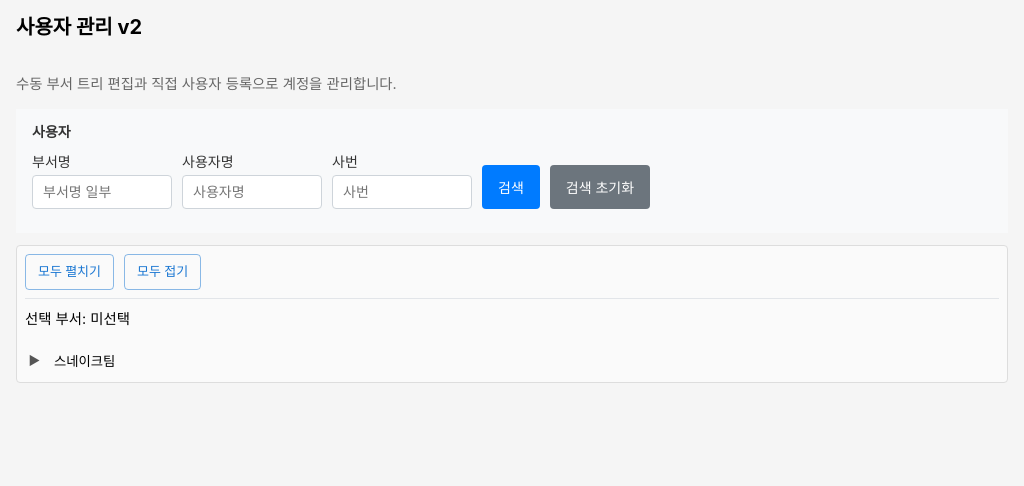
UserManagement › 사용자 ID column › falls back to employee_number (snake_case) when employeeNumber absent
Expected: the button "스네이크팀" is shown, top-left (47, 348), bottom-right (122, 374)
What coordinates should you click on to do the following:
click the button named "펼치기"
I would click on:
 (34, 361)
Its box is top-left (25, 351), bottom-right (43, 371).
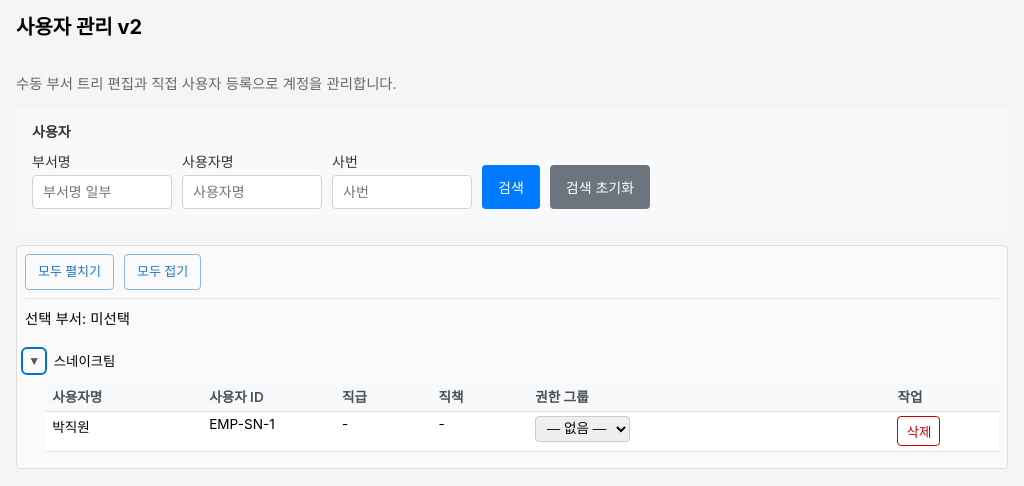
Expected: the text "EMP-SN-1" is shown, top-left (202, 411), bottom-right (335, 451)
